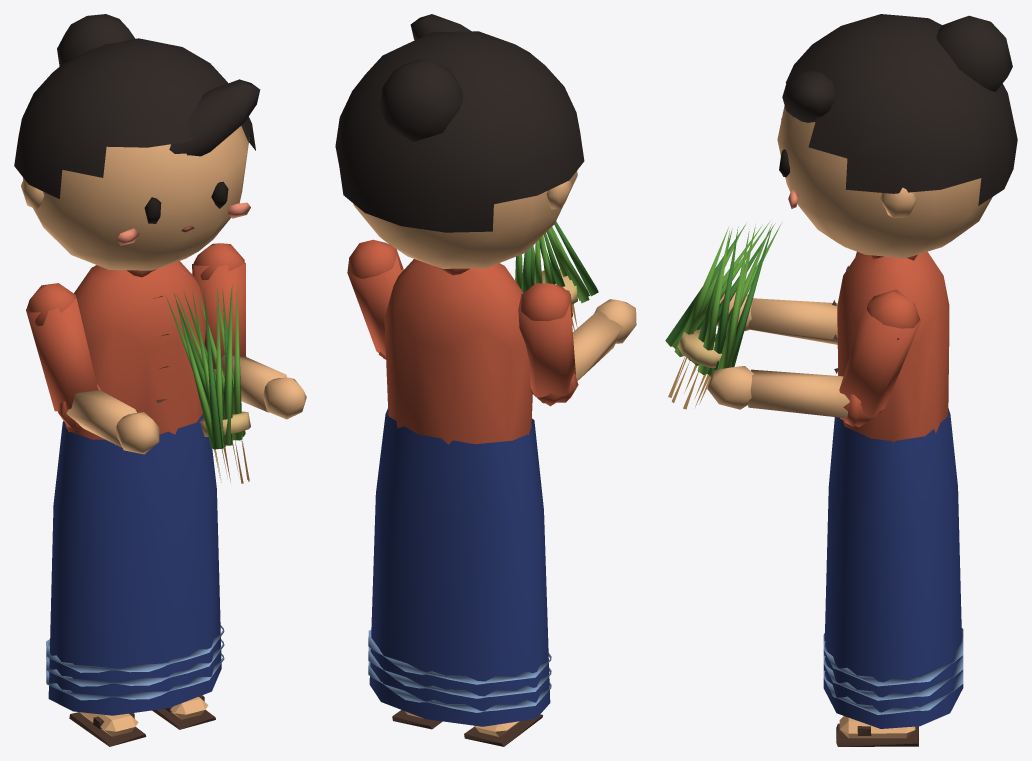
The model's file is era1_seedling_woman.glb.
3 renders of one model, left to right at view 1: azimuth 30°, elevation 25°; view 2: azimuth 150°, elevation 25°; view 3: azimuth 270°, elevation 25°, orthographic. The views are drawn at different scales.
Parts seen in each view (by area): view 1: body, head, prop_rice_seedlings, arm_R, arm_L, forearm_R, forearm_L, shin_R, shin_L; view 2: body, head, arm_R, arm_L, prop_rice_seedlings, forearm_R, shin_R; view 3: body, head, prop_rice_seedlings, arm_L, forearm_L, forearm_R, shin_L.
Boxes of the visible parts, x1,y1,x2,y2 form: body: (46, 261, 224, 715); head: (14, 14, 260, 270); prop_rice_seedlings: (165, 284, 250, 483); arm_R: (26, 283, 97, 426); arm_L: (192, 243, 245, 368); forearm_R: (58, 384, 159, 454); forearm_L: (214, 355, 306, 419); shin_R: (69, 712, 146, 746); shin_L: (152, 695, 215, 729); body: (368, 259, 551, 726); head: (335, 14, 584, 268); arm_R: (518, 283, 575, 406); arm_L: (347, 239, 403, 358); prop_rice_seedlings: (515, 221, 598, 330); forearm_R: (530, 299, 636, 403); shin_R: (464, 714, 542, 746); body: (823, 251, 963, 728); head: (777, 14, 1017, 258); prop_rice_seedlings: (665, 222, 781, 409); arm_L: (839, 289, 920, 426); forearm_L: (707, 366, 880, 426); forearm_R: (717, 291, 837, 344); shin_L: (836, 716, 918, 746).
Size of the model in its own units: 0.4966 by 1.47 by 0.6698.
